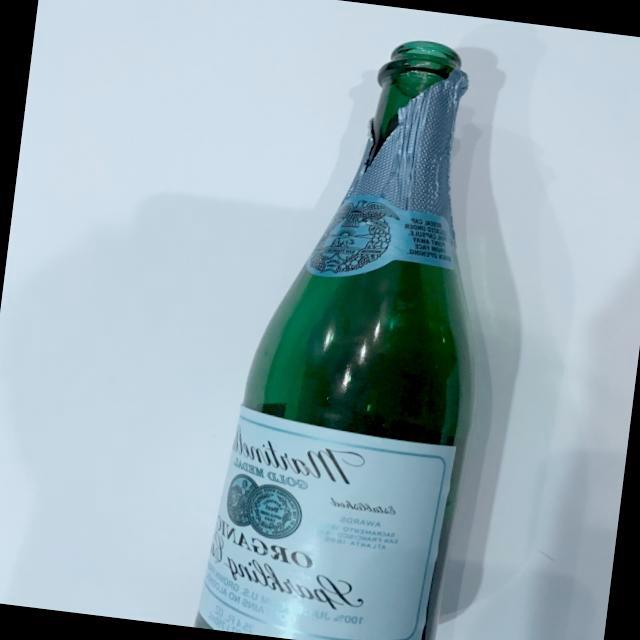glass: (177, 9, 529, 640)
